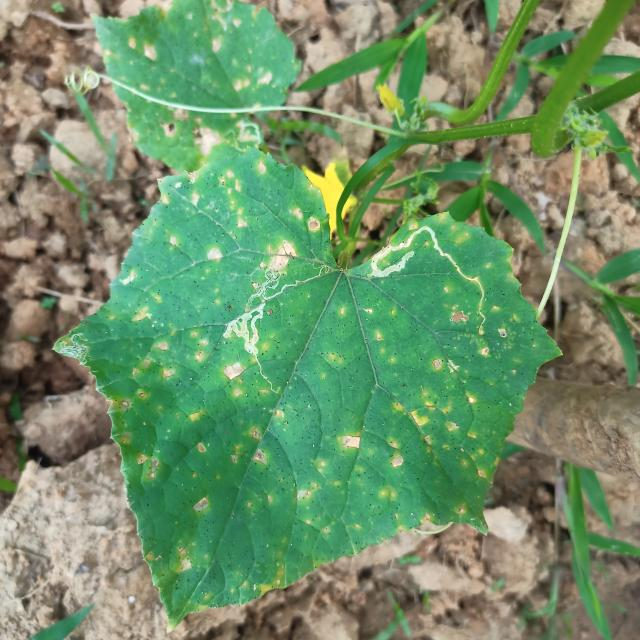disease_cucumber: (106, 164, 514, 592), (109, 7, 268, 147)
